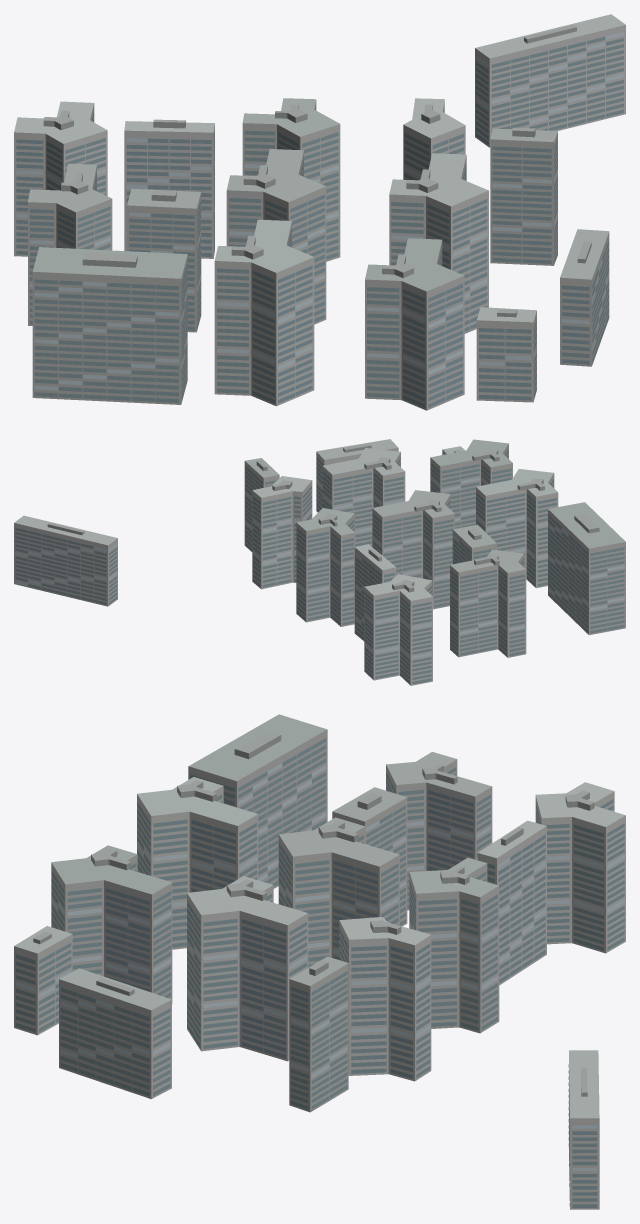
Rendered from apt-a10023959.glb.
3 views of the same model, one above another, from view 1: azimuth 30°, elevation 25°; view 2: azimuth 150°, elevation 25°; view 3: azimuth 270°, elevation 25° (orthographic). The views are drawn at different scales.
Visible parts, largest first — view 1: apt-a10023959; view 2: apt-a10023959; view 3: apt-a10023959.
Boxes of the visible parts, x1=… form: apt-a10023959: x1=14, y1=14, x2=625, y2=410; apt-a10023959: x1=14, y1=439, x2=625, y2=685; apt-a10023959: x1=14, y1=714, x2=625, y2=1209.
Size of the model in its own units: 321 by 58 by 226.
